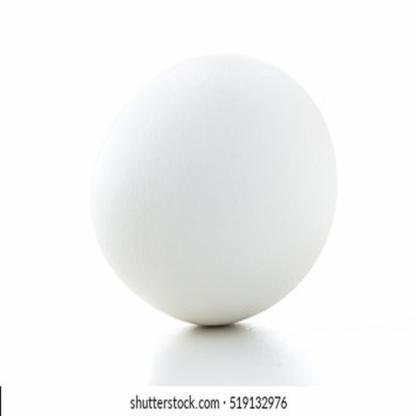egg: (86, 48, 341, 328)
